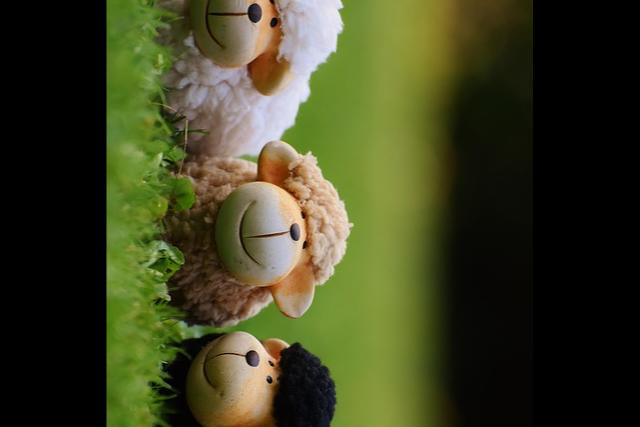Non_Gorille: (135, 0, 424, 427)
